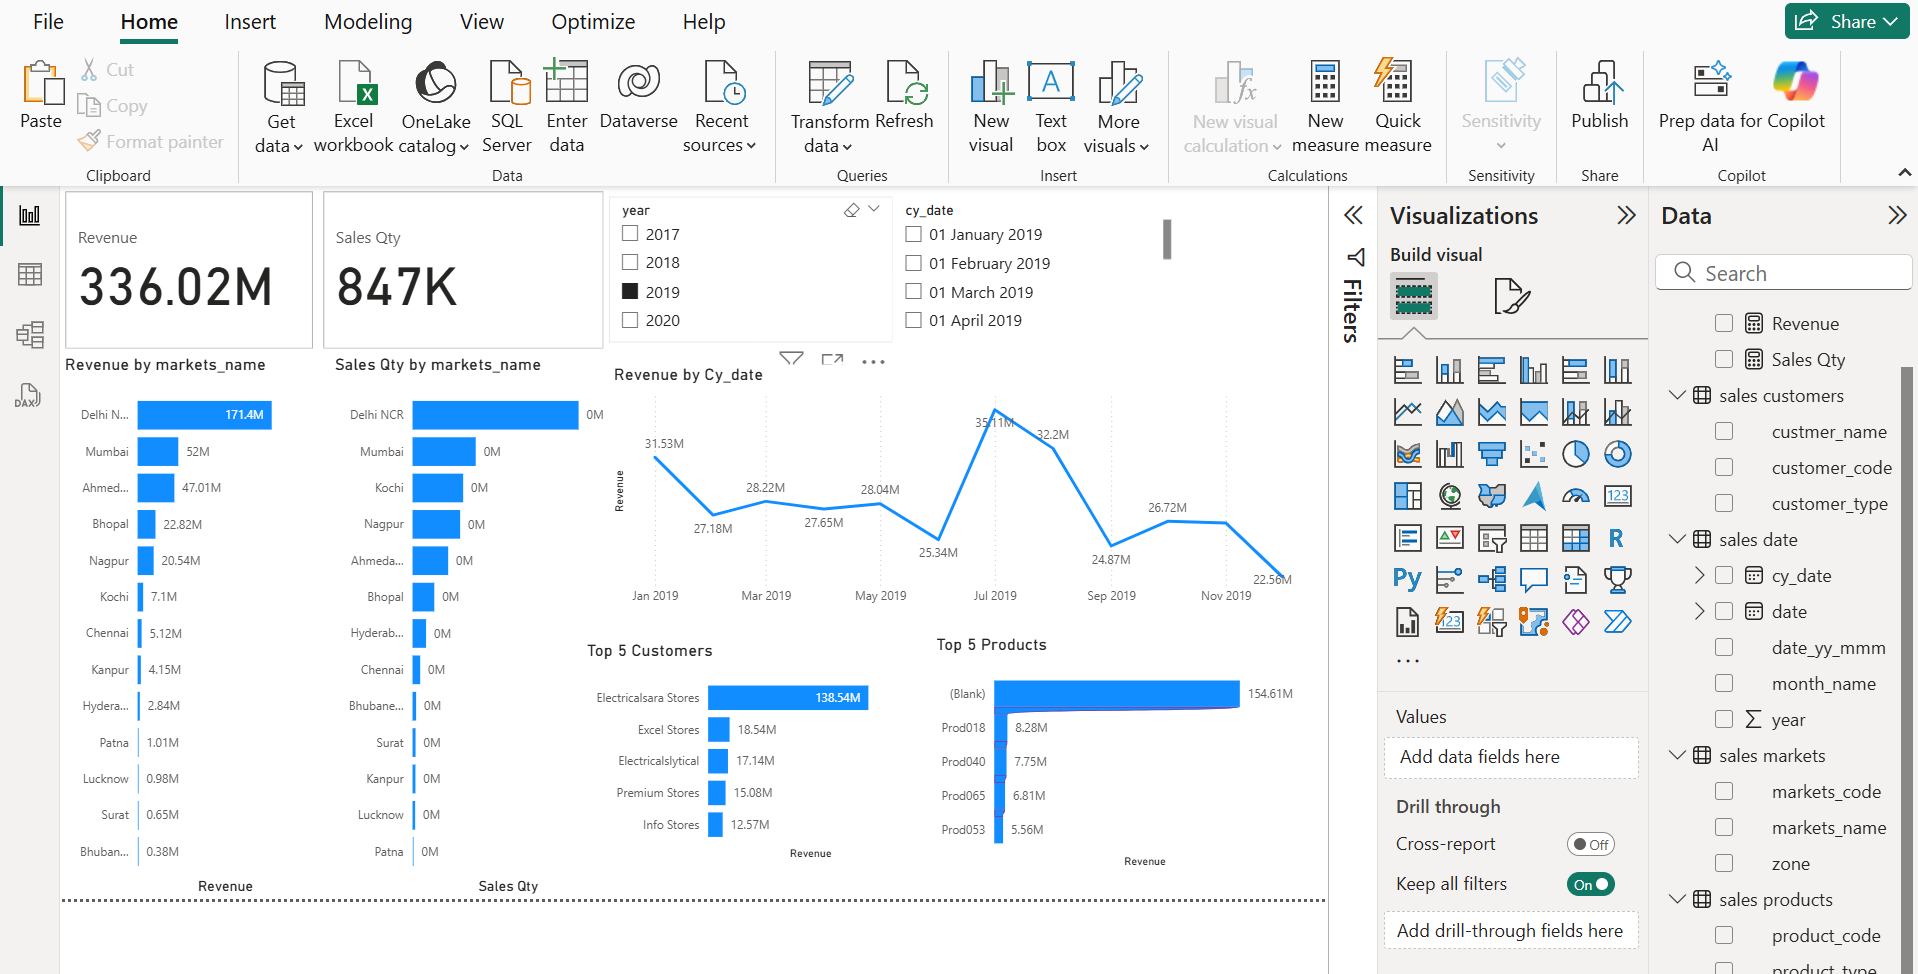

The page's visual inventory and layout, read from the dashboard file:
{"tool":"powerbi","page":{"name":"Page 1","canvas":[1280,720],"ordinal":0},"visuals":[{"type":"cardVisual","fields":{"Data":["BaseMeasures.Revenue"]},"box":[0,0,260.4,169.6],"z":0},{"type":"cardVisual","fields":{"Data":["BaseMeasures.Sales Qty"]},"box":[260.4,0,293.8,169.6],"z":1000},{"type":"barChart","fields":{"Y":["BaseMeasures.Revenue"],"Category":["sales markets.markets_name"]},"box":[0,169.6,260.4,549.7],"z":2000},{"type":"barChart","fields":{"Y":["BaseMeasures.Sales Qty"],"Category":["sales markets.markets_name"]},"box":[272.6,169.6,281.6,549.7],"z":3000},{"type":"slicer","fields":{"Values":["sales date.year"]},"box":[554.2,10.6,286.2,146.9],"z":4000},{"type":"slicer","fields":{"Values":["sales date.cy_date"]},"box":[840.4,10.6,286.2,146.9],"z":5000},{"type":"barChart","title":"Top 5 Customers","fields":{"Y":["BaseMeasures.Revenue"],"Category":["sales customers.custmer_name"]},"box":[526.9,458.8,339.2,225.6],"z":6000},{"type":"barChart","title":"Top 5 Products","fields":{"Y":["BaseMeasures.Revenue"],"Category":["sales products.product_code"]},"box":[879.8,452.7,372.5,239.2],"z":6001},{"type":"lineChart","title":"Revenue by Cy_date","fields":{"Y":["BaseMeasures.Revenue"],"Category":["sales date.cy_date.Variation.Date Hierarchy.Year","sales date.cy_date.Variation.Date Hierarchy.Quarter","sales date.cy_date.Variation.Date Hierarchy.Month","sales date.cy_date.Variation.Date Hierarchy.Day"]},"box":[554.2,180.2,710.2,251.4],"z":6002}]}

Visuals, with their boxes on the page's 1280x720 design canvas (x1, y1, x2, y2). These are canvas units, not pixel positions in the 1918x974 screenshot, which may show the page scaled, cropped or inside an application window:
cardVisual - BaseMeasures.Revenue: 0,0,260,170
cardVisual - BaseMeasures.Sales Qty: 260,0,554,170
barChart - BaseMeasures.Revenue x sales markets.markets_name: 0,170,260,719
barChart - BaseMeasures.Sales Qty x sales markets.markets_name: 273,170,554,719
slicer - sales date.year: 554,11,840,158
slicer - sales date.cy_date: 840,11,1127,158
"Top 5 Customers" barChart: 527,459,866,684
"Top 5 Products" barChart: 880,453,1252,692
"Revenue by Cy_date" lineChart: 554,180,1264,432
